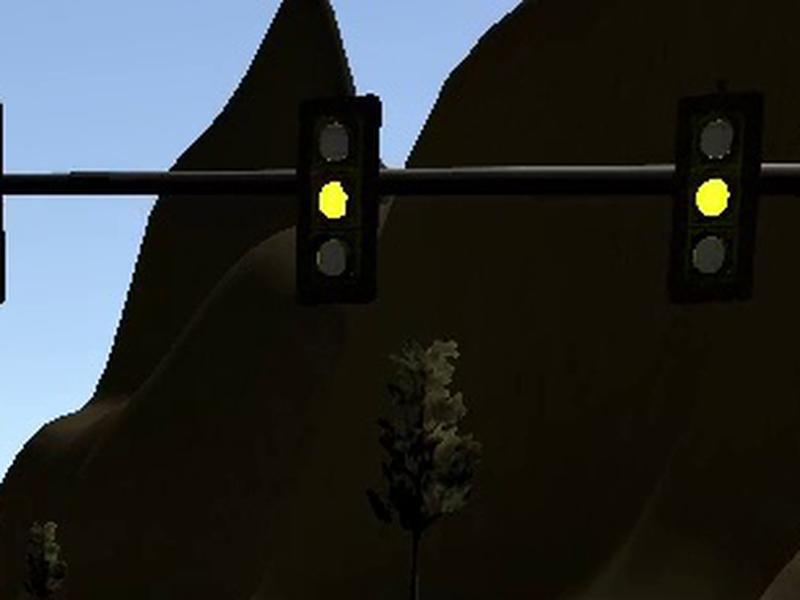Yellow: (663, 91, 764, 305), (296, 94, 382, 306)
